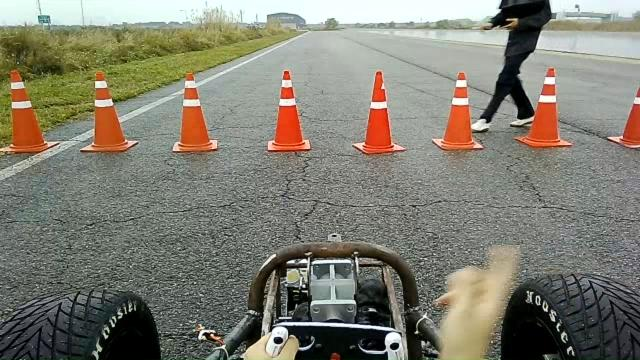red cone: (0, 68, 60, 154), (514, 66, 573, 148), (80, 70, 138, 153), (353, 69, 408, 154), (432, 71, 484, 151), (172, 71, 218, 152), (266, 69, 310, 152), (607, 84, 639, 148)
